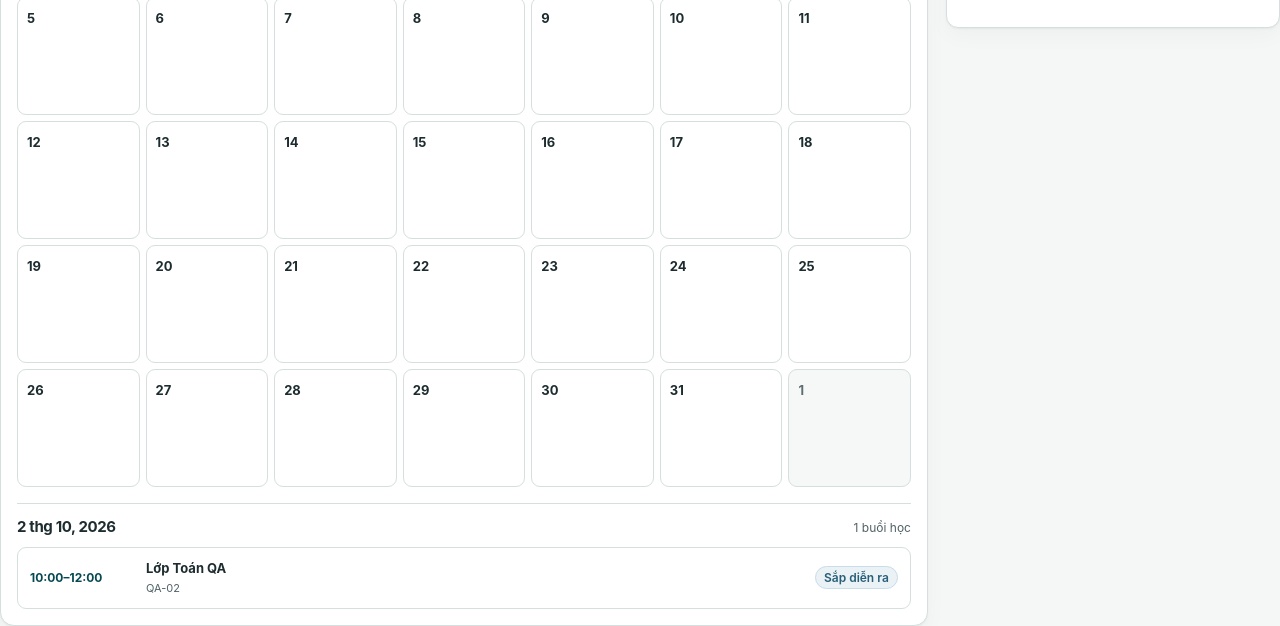
it: Staff SessionsPage › opens the attendance popup automatically after starting a session
The width and height of the screenshot is (1280, 626).
(page scrolled)
Step 1. Click the button with class "session-month__session-card" → click(66, 578), box [17,547,911,609]
(page scrolled)
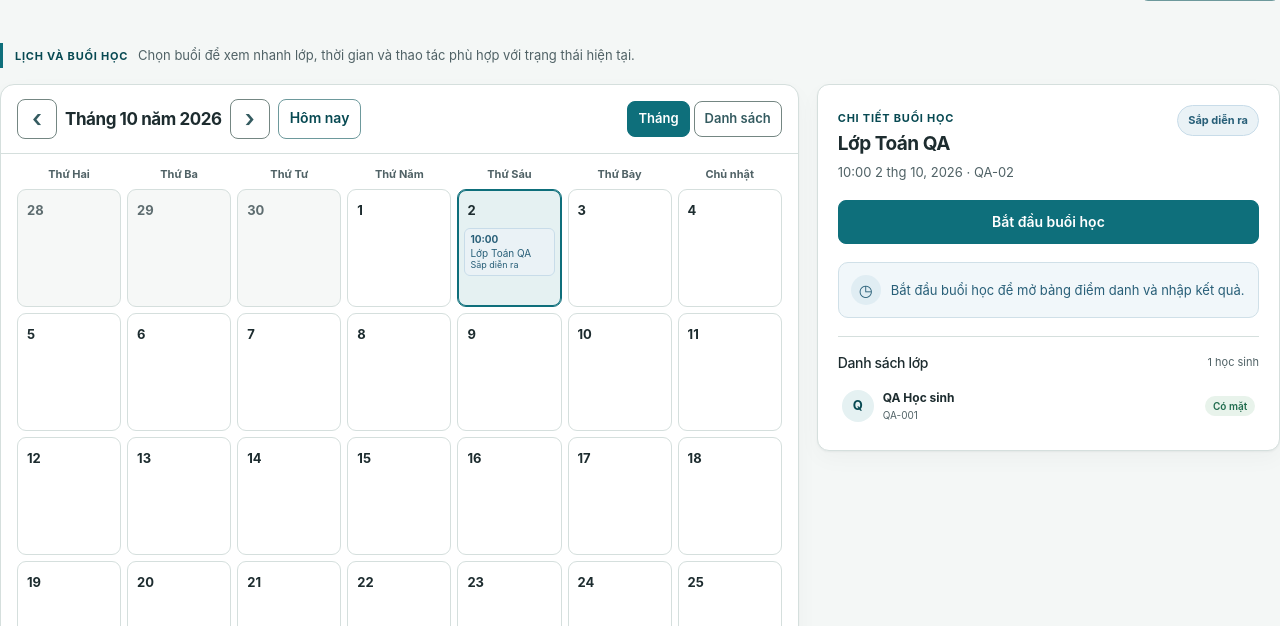
Step 2. Click the button "Bắt đầu buổi học" → click(1048, 222), box [838,200,1259,244]
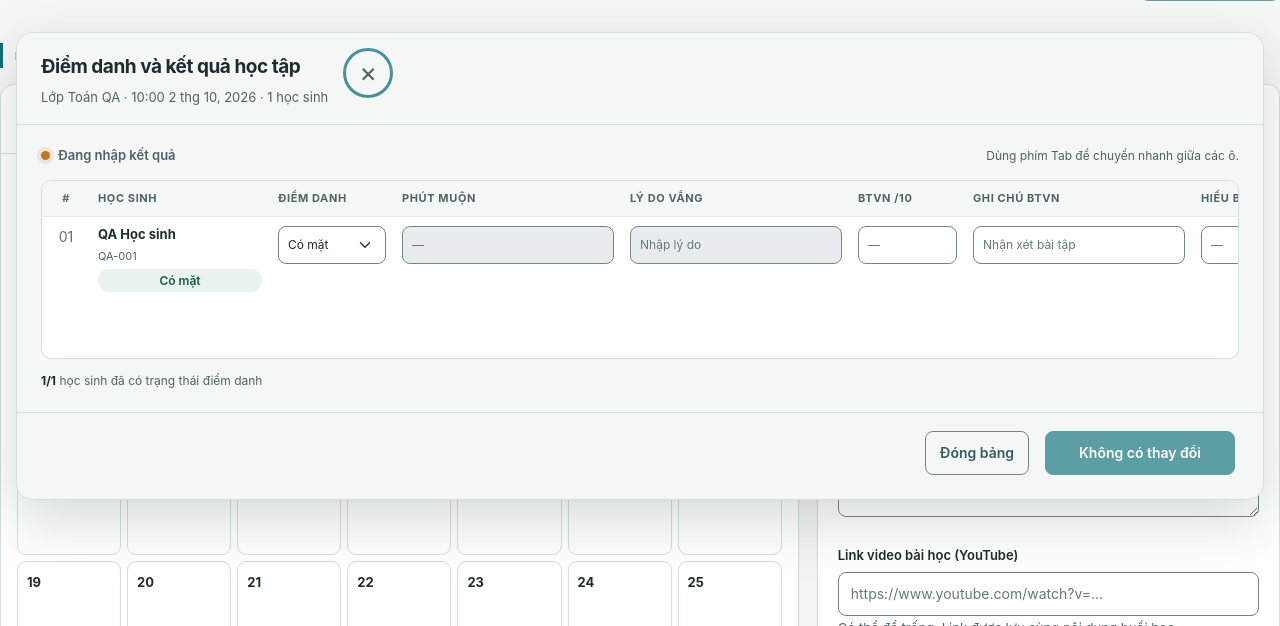
Result: the dialog with class "app-modal" shows "Điểm danh và kết quả học tập" at [41,55,300,78]
